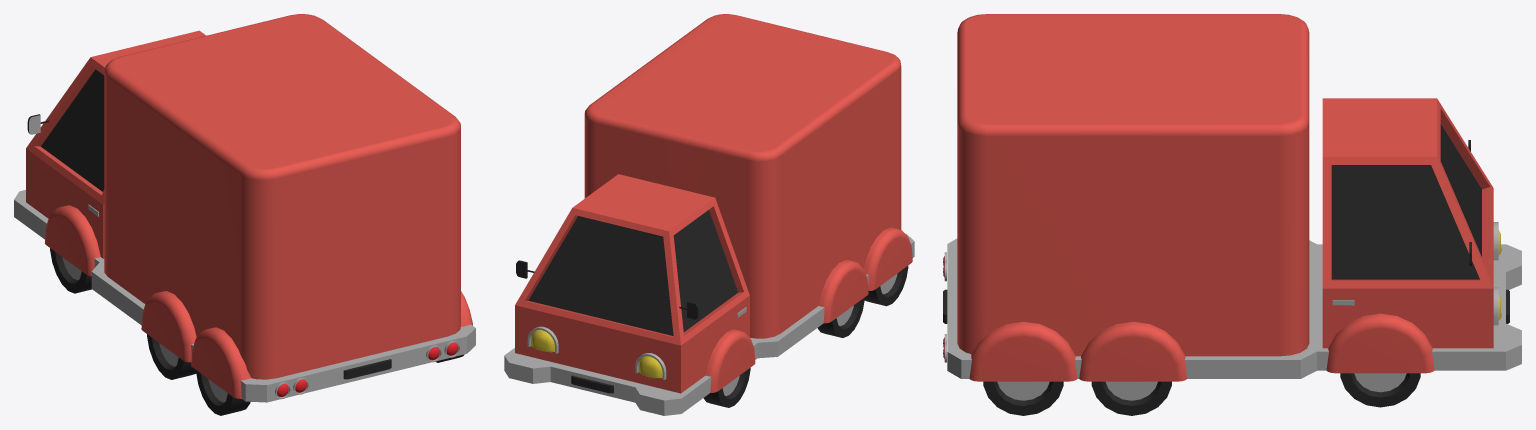
The model's file is Truck1.fbx.
3 views of the same model, side by side, from view 1: azimuth 30°, elevation 25°; view 2: azimuth 150°, elevation 25°; view 3: azimuth 270°, elevation 25° (orthographic). The views are drawn at different scales.
Visible parts, largest first — view 1: Truck1, RearLeftWheel, MiddleLeftWheel, LeftFrontWheel; view 2: Truck1, MiddleLeftWheel, LeftFrontWheel, RearLeftWheel; view 3: Truck1, MiddleRightWheel, RearRightWheel, RightFrontWheel.
Boxes of the visible parts, x1,y1,x2,y2 form: Truck1: (14, 14, 475, 402); RearLeftWheel: (196, 370, 250, 415); MiddleLeftWheel: (147, 334, 196, 379); LeftFrontWheel: (50, 248, 91, 293); Truck1: (504, 14, 914, 415); MiddleLeftWheel: (817, 297, 864, 337); LeftFrontWheel: (703, 368, 750, 407); RearLeftWheel: (864, 266, 908, 306); Truck1: (943, 14, 1521, 381); MiddleRightWheel: (1091, 381, 1171, 415); RearRightWheel: (983, 381, 1063, 415); RightFrontWheel: (1340, 373, 1420, 407).
Bounding box in the file's own units: 368 × 375 × 697.
